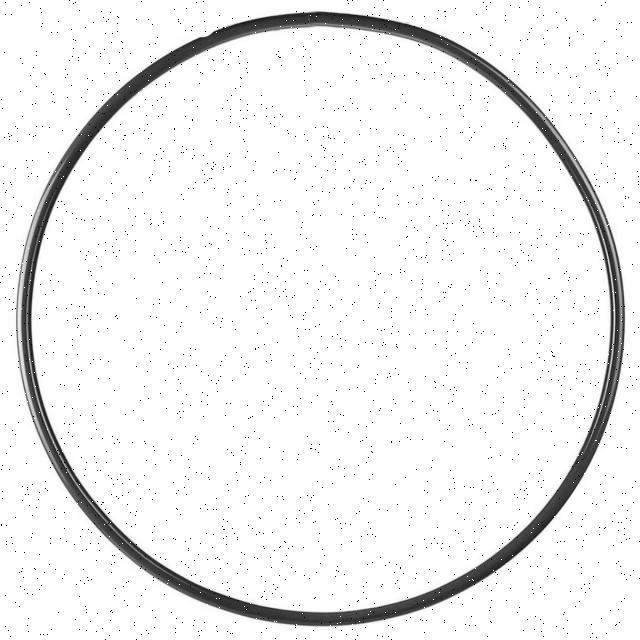Circle: (19, 10, 626, 625)
